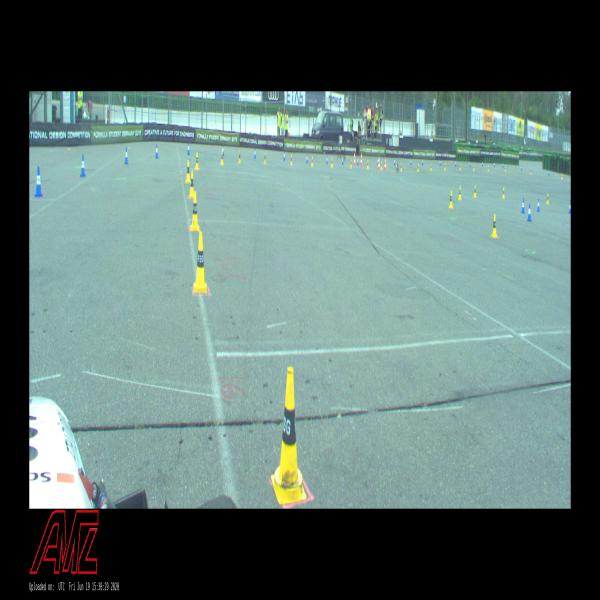blue_cone: (34, 166, 43, 197), (80, 155, 86, 177), (527, 203, 532, 222), (124, 147, 129, 164), (521, 198, 525, 214), (155, 143, 159, 158), (537, 198, 540, 212), (187, 142, 190, 155), (568, 201, 570, 213), (222, 145, 224, 156), (254, 149, 256, 159), (326, 155, 328, 164), (283, 152, 285, 160), (306, 155, 308, 163), (357, 157, 359, 165), (410, 158, 412, 165), (439, 160, 441, 166), (455, 161, 457, 166), (342, 157, 343, 164), (422, 158, 423, 165), (394, 159, 395, 166)
large_orange_cone: (353, 151, 356, 165), (384, 157, 387, 170), (360, 152, 363, 165), (378, 155, 380, 170)
yellow_cone: (271, 367, 306, 504), (192, 232, 207, 292), (190, 191, 200, 231), (491, 215, 498, 238), (189, 170, 194, 198), (186, 160, 190, 183), (194, 152, 199, 170), (449, 191, 453, 208), (458, 186, 462, 200), (220, 151, 224, 165), (473, 185, 477, 198), (238, 150, 241, 163), (546, 193, 549, 204), (502, 187, 505, 198), (350, 158, 352, 169), (331, 157, 333, 168), (264, 152, 266, 163), (312, 156, 314, 166), (290, 155, 292, 165), (400, 163, 402, 172), (367, 160, 369, 169), (417, 164, 419, 172), (473, 164, 475, 171), (444, 163, 446, 170), (430, 163, 432, 170), (459, 164, 461, 170), (381, 161, 382, 170)
